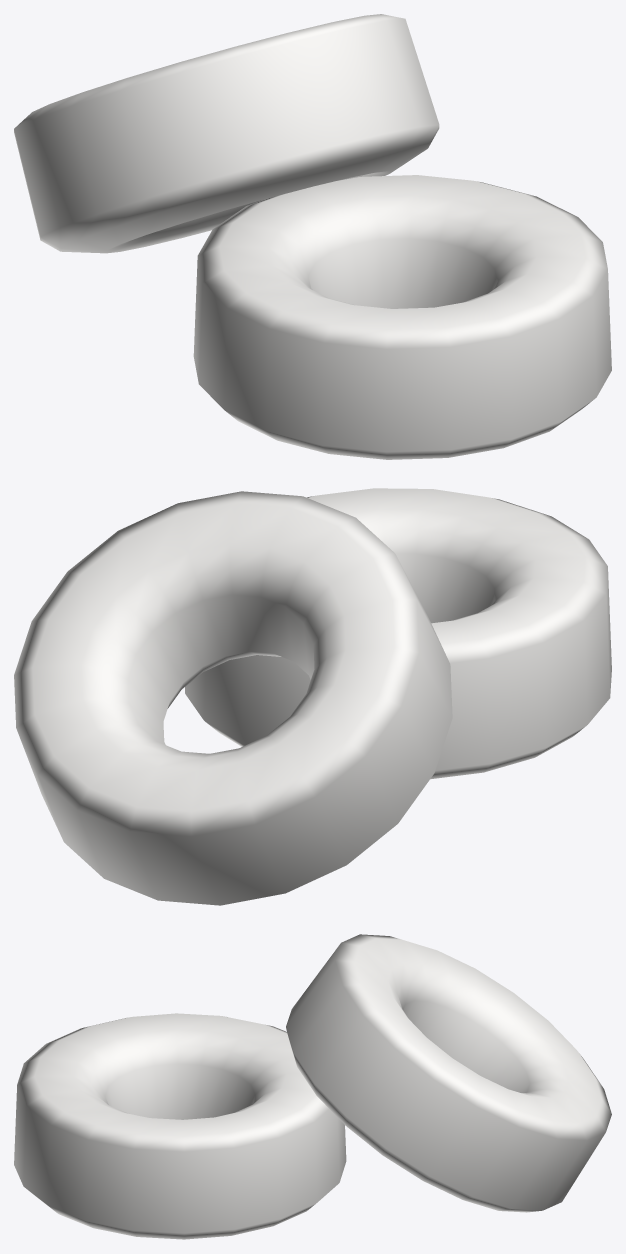
Rendered from Garage_Tires.fbx.
3 renders of one model, top to bottom at view 1: azimuth 30°, elevation 25°; view 2: azimuth 150°, elevation 25°; view 3: azimuth 270°, elevation 25°, orthographic. The views are drawn at different scales.
Visible parts, largest first — view 1: Garage_Tires; view 2: Garage_Tires; view 3: Garage_Tires.
Boxes of the visible parts, x1,y1,x2,y2 form: Garage_Tires: (14, 14, 611, 459); Garage_Tires: (14, 488, 611, 905); Garage_Tires: (14, 934, 611, 1239).
Bounding box in the file's own units: 70.38 × 52.59 × 124.
